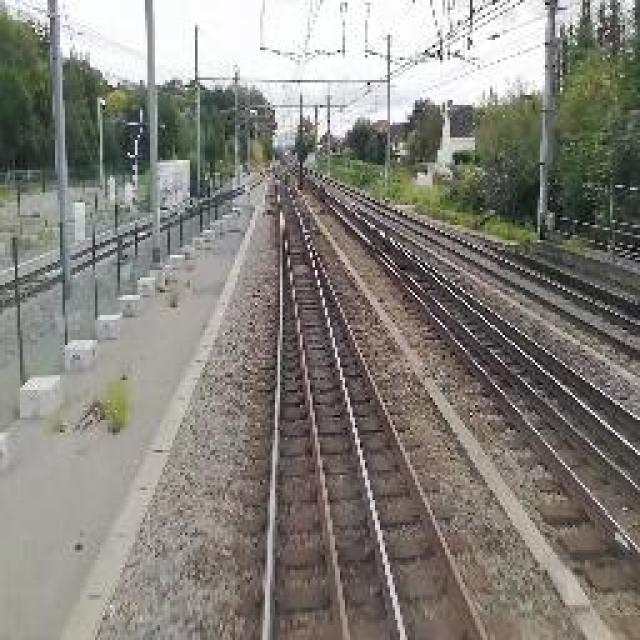rail: (284, 157, 640, 640), (251, 158, 519, 640)
